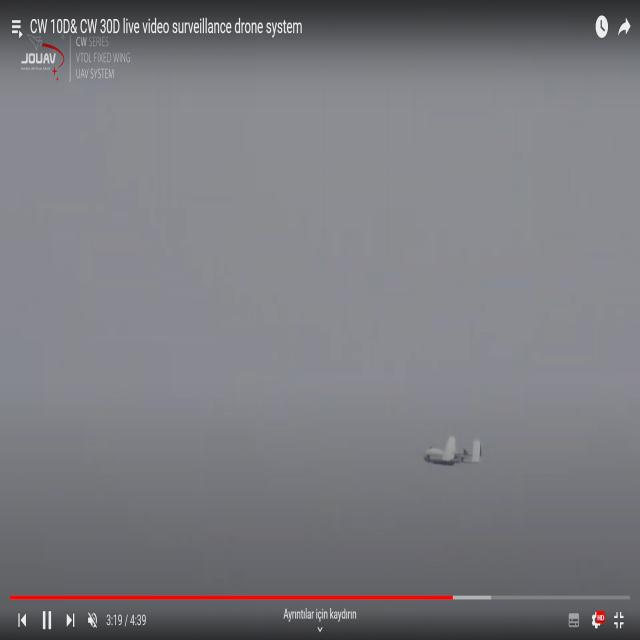iha: (424, 435, 482, 469)
